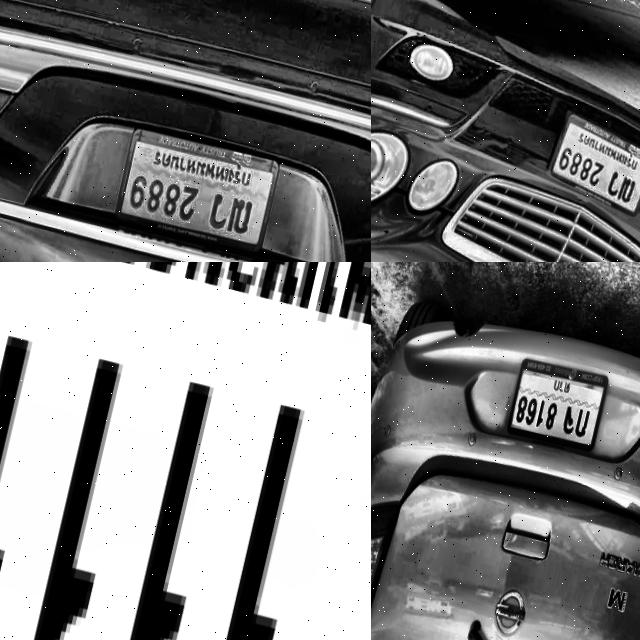license-plate: (0, 262, 371, 640), (108, 121, 282, 257), (538, 102, 640, 218), (502, 349, 612, 456)
